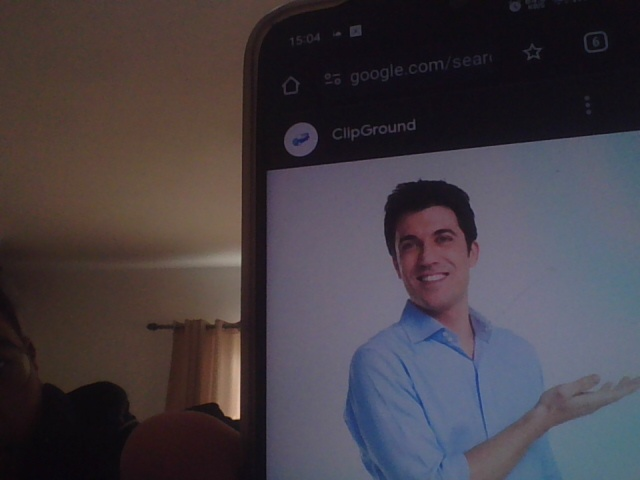fake: (381, 168, 486, 317)
